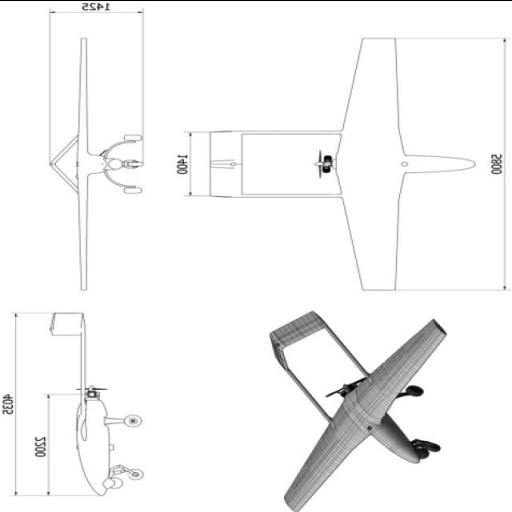uav: (255, 310, 475, 511)
